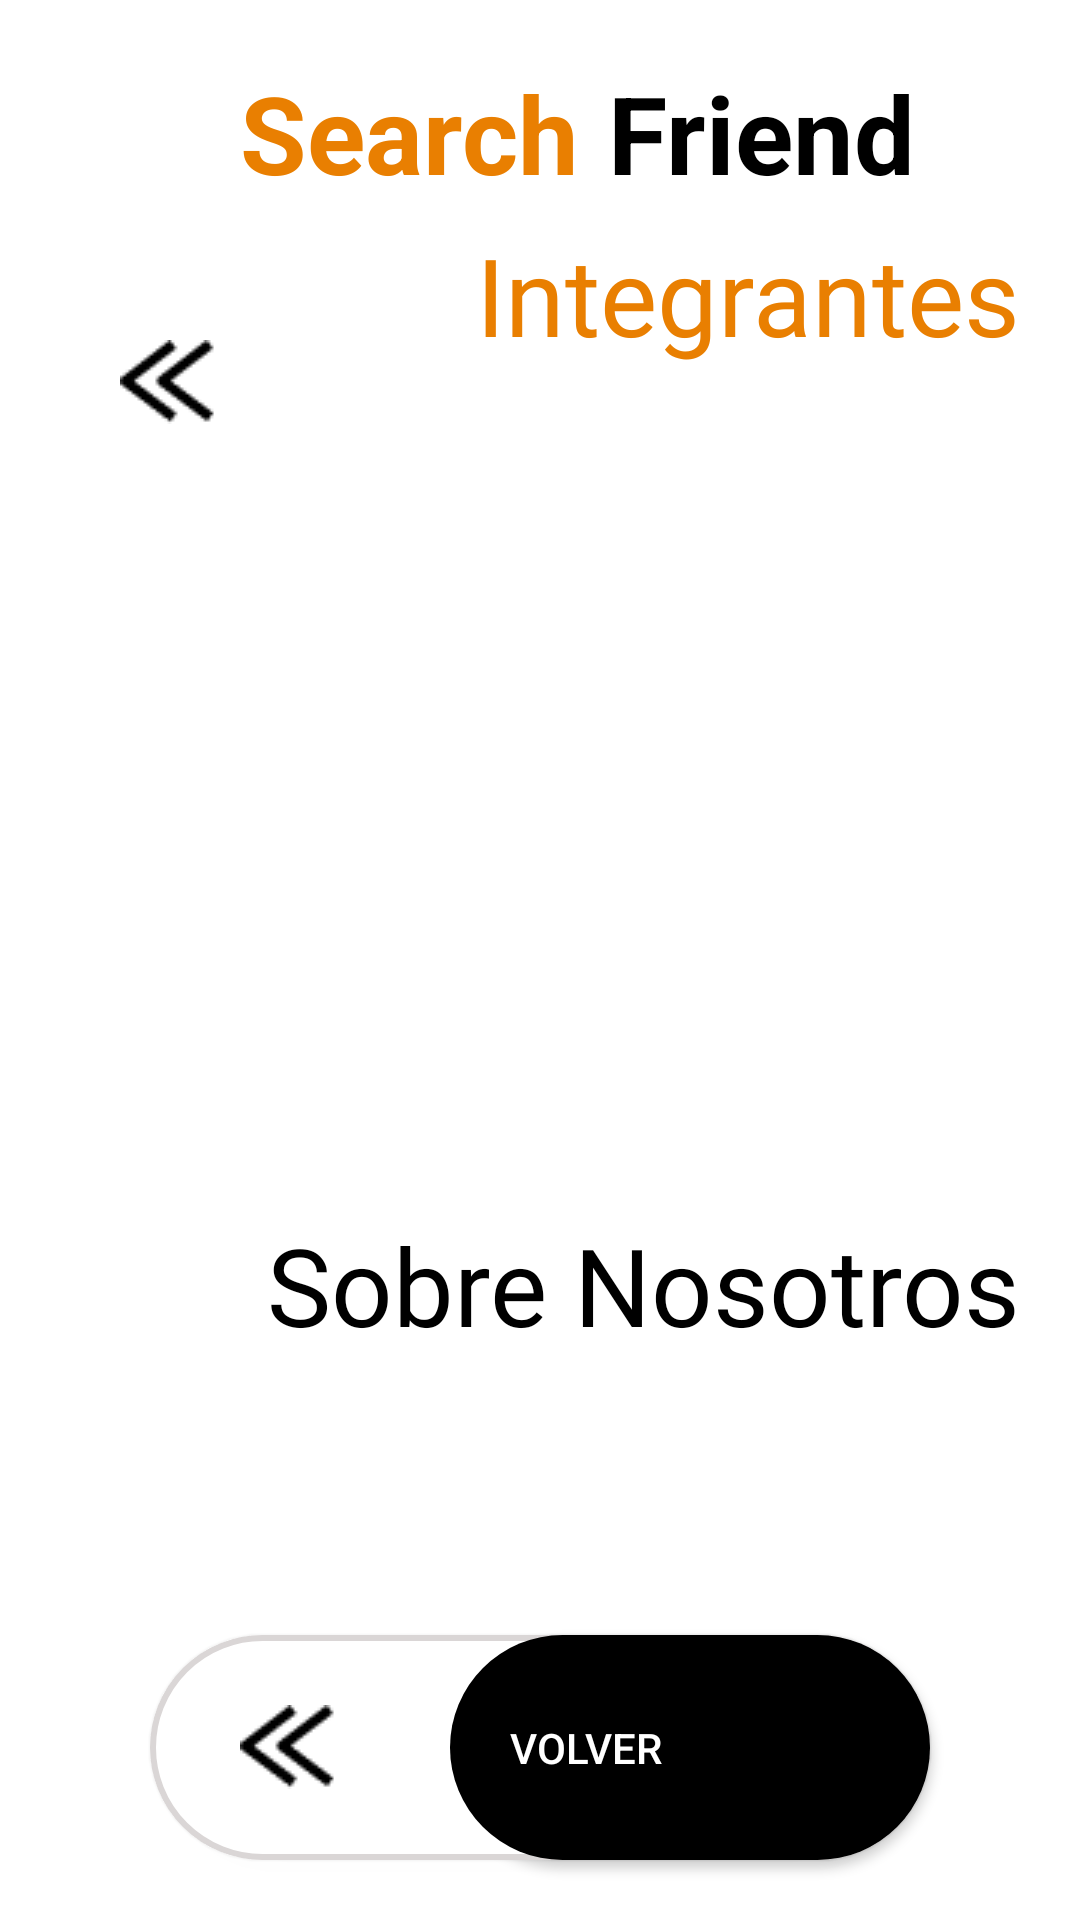

Where to tap for icons on this 1080 × 1920 app screen, as point (x, y):
Imagen para regresar a home: point (167, 381)
